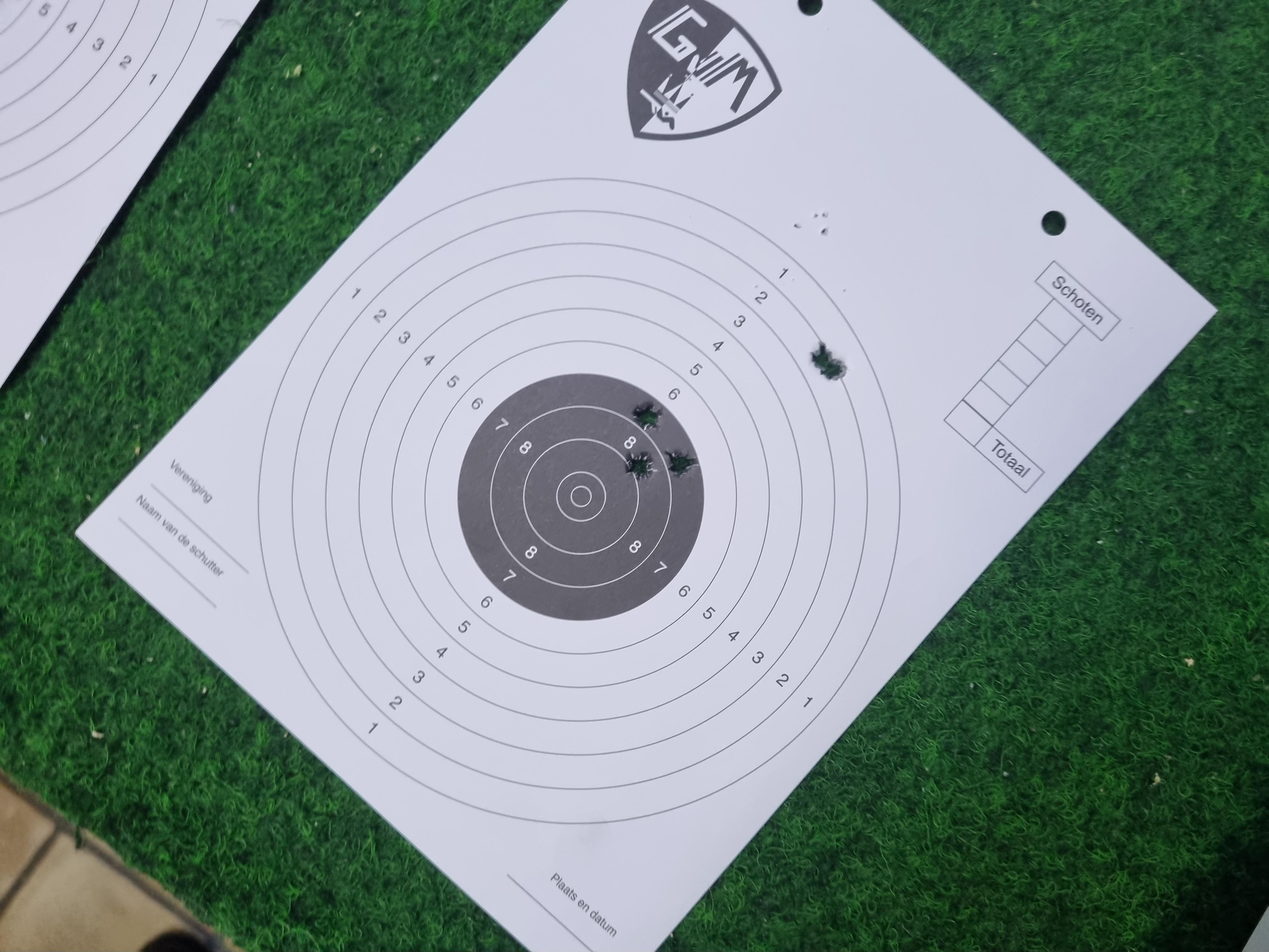hole: (631, 498, 669, 524), (628, 469, 666, 493), (694, 475, 730, 497), (776, 607, 816, 625), (762, 615, 789, 636), (1243, 22, 1268, 44)
